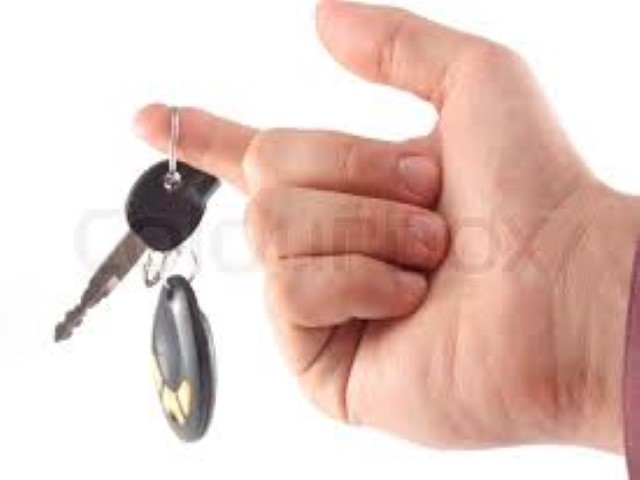key: (58, 154, 208, 208)
